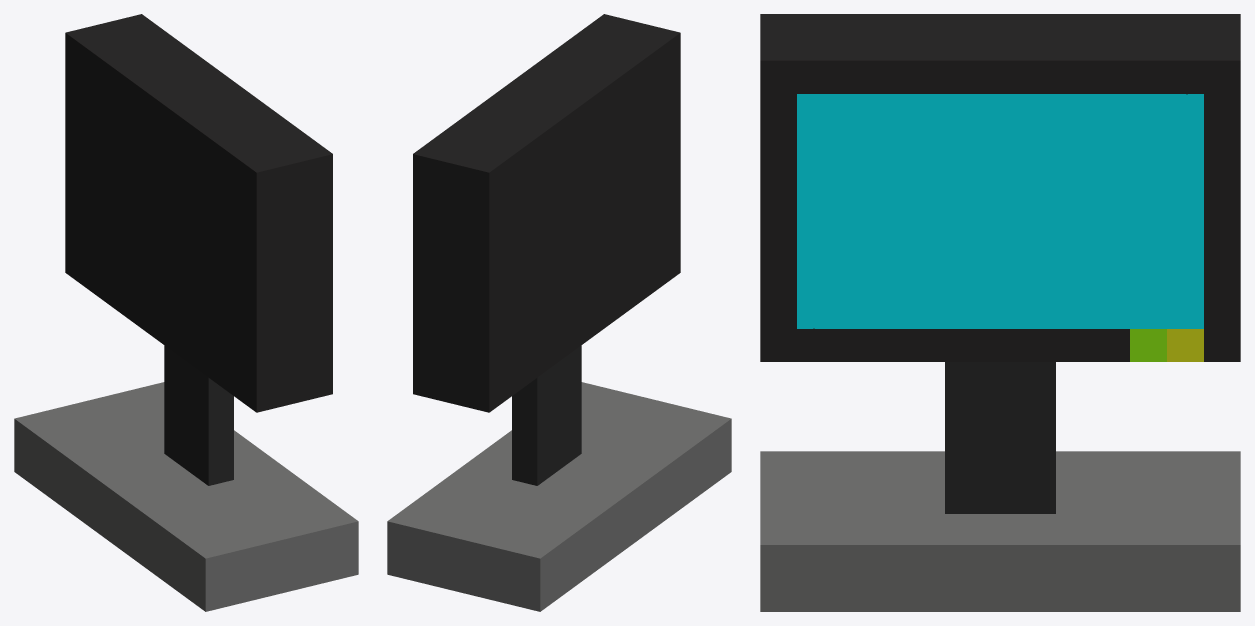
Rendered from computer.gltf.
The picture shows the model from 3 angles, left to right: view 1: azimuth 30°, elevation 25°; view 2: azimuth 150°, elevation 25°; view 3: azimuth 270°, elevation 25°; orthographic projection. The views are drawn at different scales.
Parts seen in each view (by area): view 1: computer-head, computer-base, computer-support; view 2: computer-head, computer-base, computer-support; view 3: computer-head, computer-base, computer-support.
Part boxes in pixels (x1,y1,x2,y2): computer-head: (65,14,332,412); computer-base: (14,382,358,611); computer-support: (164,345,233,485); computer-head: (413,14,680,412); computer-base: (387,382,731,611); computer-support: (512,345,581,485); computer-head: (760,14,1240,361); computer-base: (760,451,1240,611); computer-support: (945,362,1055,513).
Size of the model in its own units: 0.375 by 1 by 0.8125.
3 materials, 3 textured.
